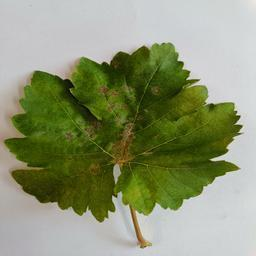Powdery-Mildew: (99, 75, 162, 115)
